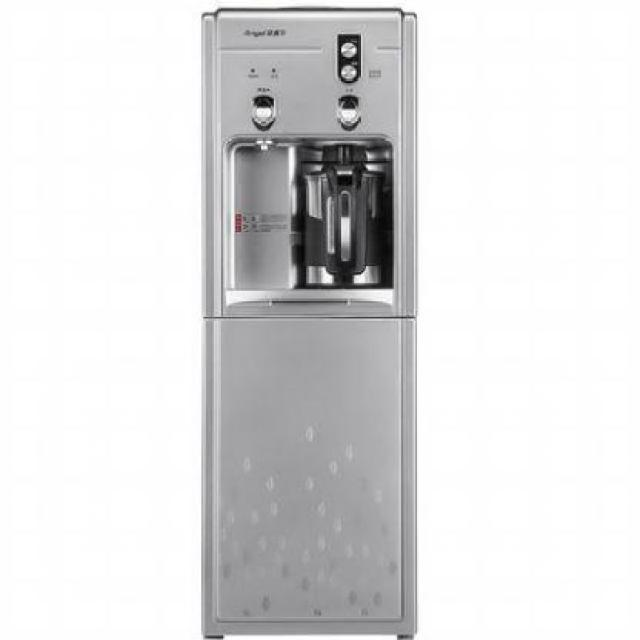cooler: (193, 1, 421, 640)
